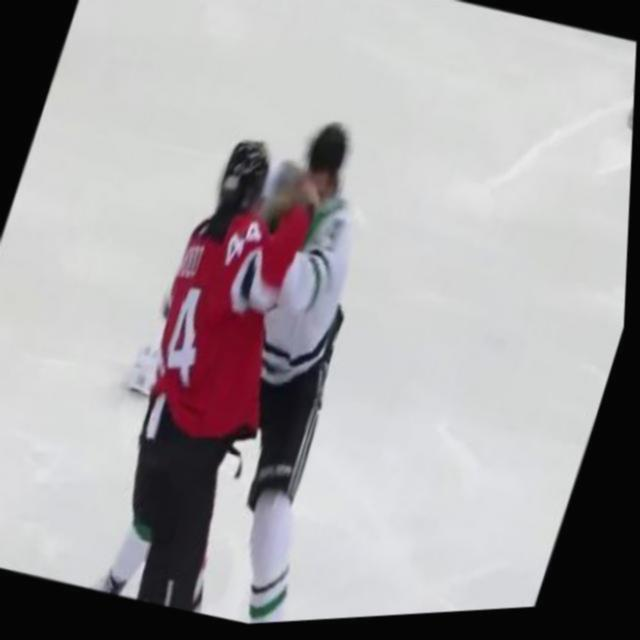fight: (71, 82, 432, 636)
